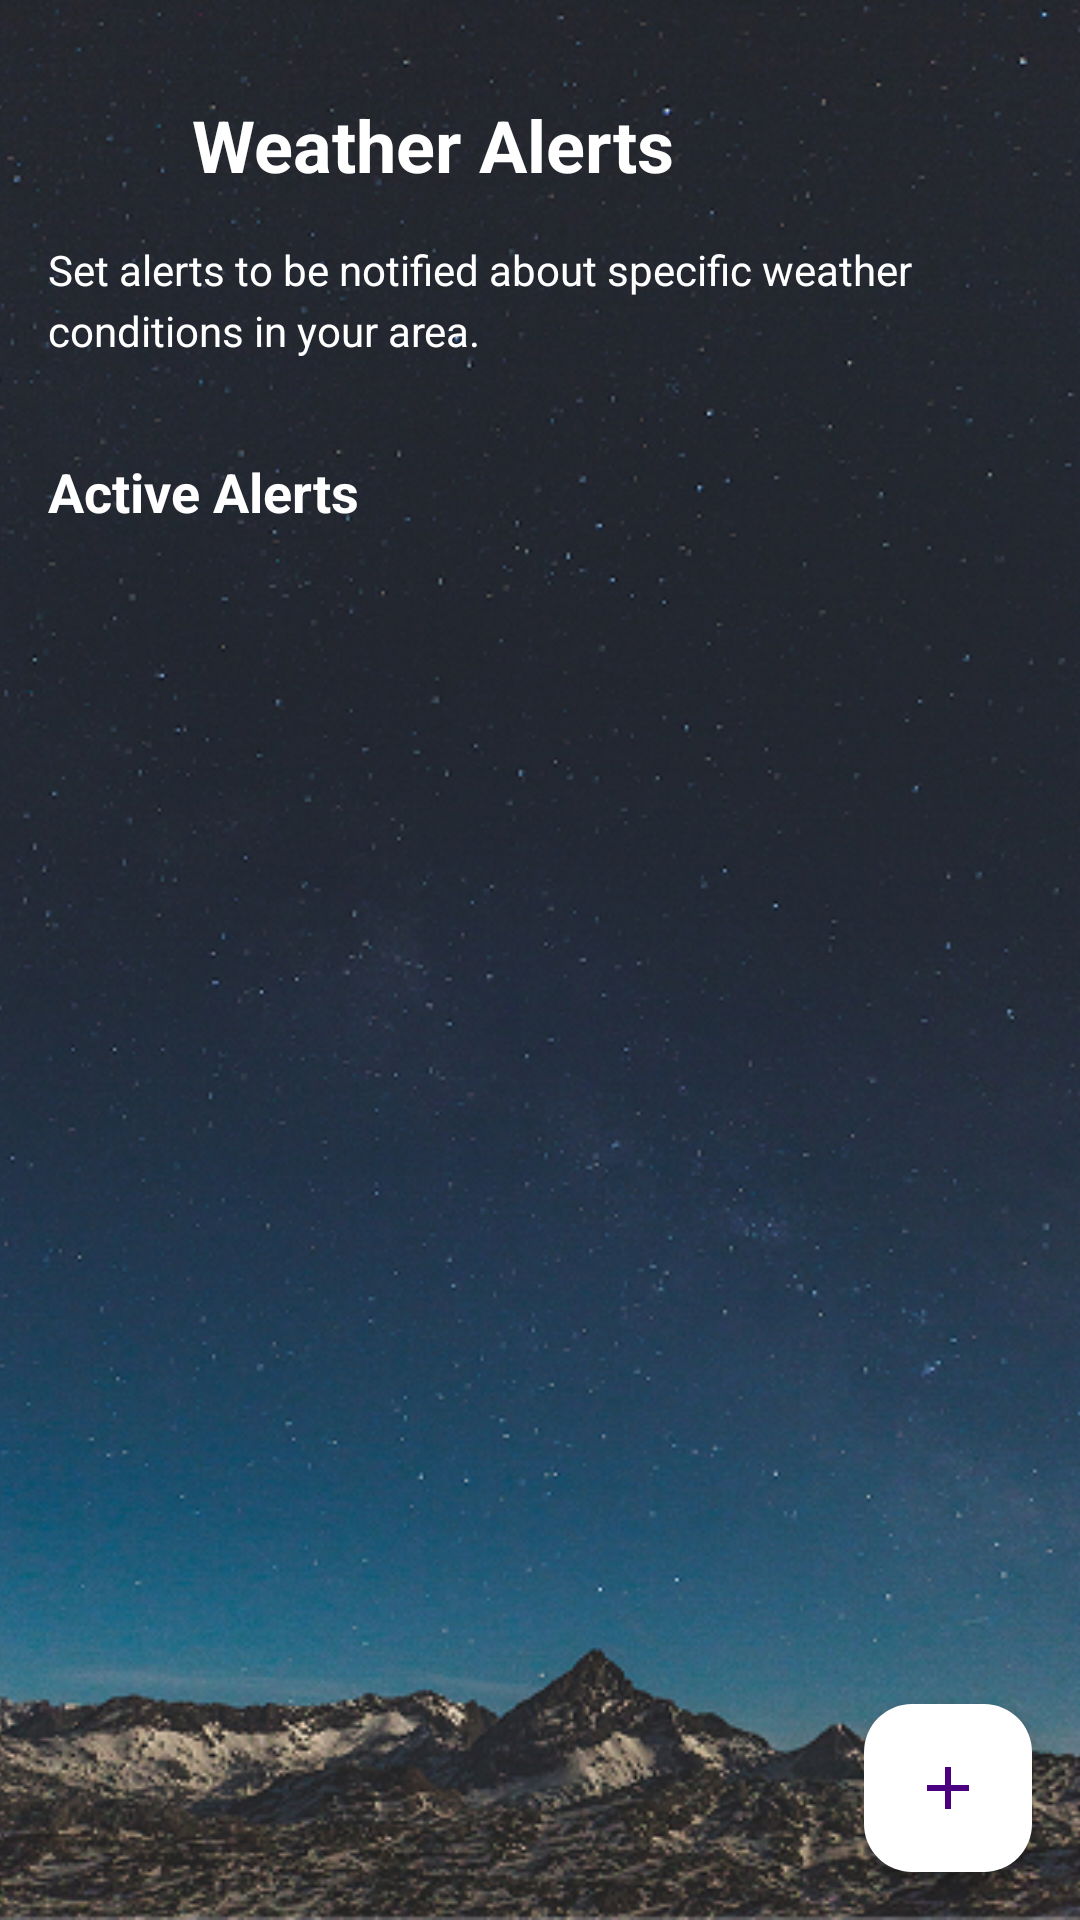

Named icons in this screenshot (1080px×1920px) and their centers, (x,y):
Add alert: (948,1788)
